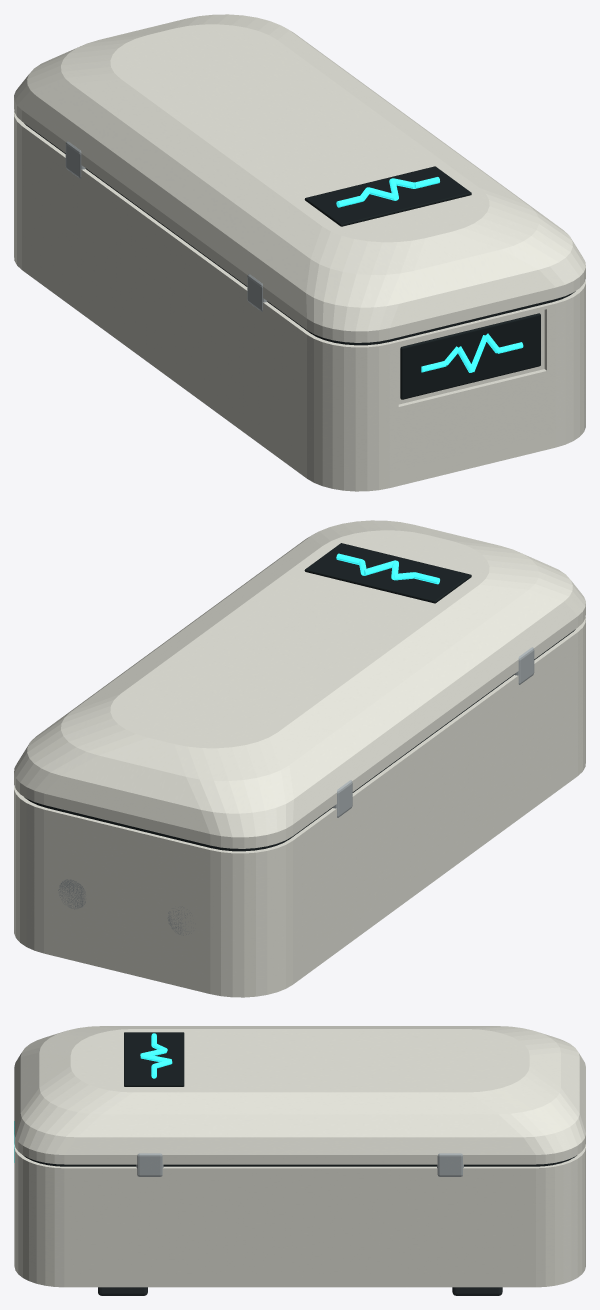
File: material-chamber.glb
3 views of the same model, one above another, from view 1: azimuth 30°, elevation 25°; view 2: azimuth 150°, elevation 25°; view 3: azimuth 270°, elevation 25° (orthographic). The views are drawn at different scales.
Parts seen in each view (by area): view 1: chamber_closed_domed_lid, chamber_cavity_wall, chamber_lower_pan, chamber_working_face_status_recess, chamber_lid_status_recess, chamber_inset_gasket; view 2: chamber_closed_domed_lid, chamber_cavity_wall, chamber_lower_pan, chamber_lid_status_recess, chamber_inset_gasket; view 3: chamber_closed_domed_lid, chamber_cavity_wall, chamber_lower_pan, chamber_lid_status_recess, chamber_inset_gasket, chamber_seal_clamp_0.59_-0.72, chamber_seal_clamp_0.59_0.72, chamber_cradle_0.85, chamber_cradle_-0.85.
Part boxes in pixels (<box>): chamber_closed_domed_lid: <box>14,14,585,342</box>; chamber_cavity_wall: <box>14,111,585,475</box>; chamber_lower_pan: <box>14,242,585,491</box>; chamber_working_face_status_recess: <box>400,313,540,399</box>; chamber_lid_status_recess: <box>304,166,471,226</box>; chamber_inset_gasket: <box>24,123,575,345</box>; chamber_closed_domed_lid: <box>14,520,585,848</box>; chamber_cavity_wall: <box>14,617,585,981</box>; chamber_lower_pan: <box>14,748,585,997</box>; chamber_lid_status_recess: <box>304,543,471,603</box>; chamber_inset_gasket: <box>24,629,575,851</box>; chamber_closed_domed_lid: <box>14,1026,585,1164</box>; chamber_cavity_wall: <box>14,1144,585,1274</box>; chamber_lower_pan: <box>14,1253,585,1287</box>; chamber_lid_status_recess: <box>124,1032,184,1086</box>; chamber_inset_gasket: <box>23,1155,576,1166</box>; chamber_seal_clamp_0.59_-0.72: <box>136,1153,163,1176</box>; chamber_seal_clamp_0.59_0.72: <box>437,1153,463,1176</box>; chamber_cradle_0.85: <box>452,1287,502,1295</box>; chamber_cradle_-0.85: <box>98,1287,147,1295</box>.
Size of the model in its own units: 1.25 by 1.06 by 2.74.
5 materials, 3 textured.
